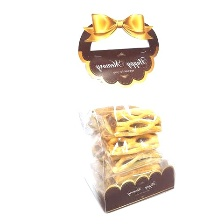snack: (70, 6, 184, 220)
